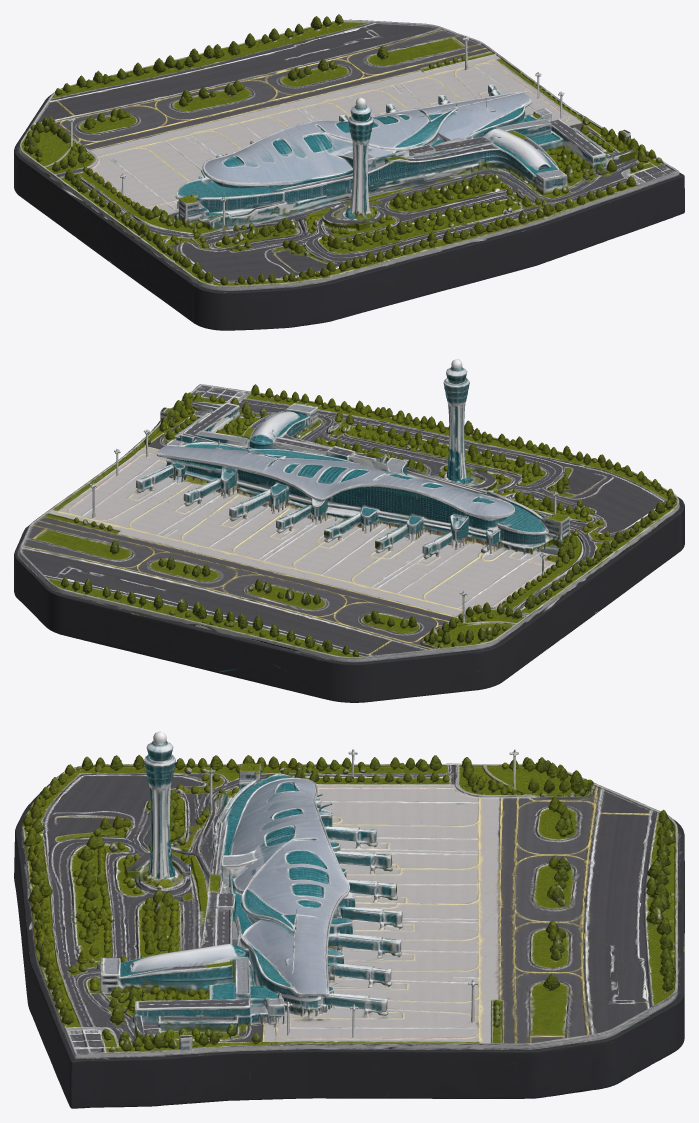
Rendered from stable-icn.glb.
3 renders of one model, top to bottom at view 1: azimuth 30°, elevation 25°; view 2: azimuth 150°, elevation 25°; view 3: azimuth 270°, elevation 25°, orthographic. The views are drawn at different scales.
Bounding box in the file's own units: 1.9 × 0.6029 × 1.83.
1 material, 1 textured.
